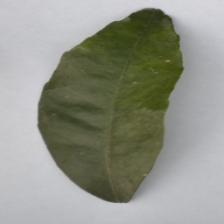healthy: (37, 9, 185, 206)
